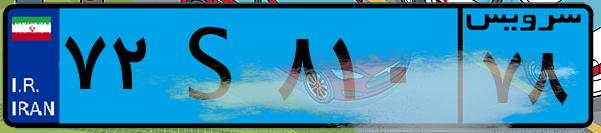0: (385, 28, 445, 110)
1: (330, 28, 385, 110)
2: (110, 28, 158, 98)
7: (57, 26, 110, 100), (475, 38, 525, 113)
8: (270, 28, 330, 110), (525, 38, 570, 115)
S: (158, 12, 270, 120)
